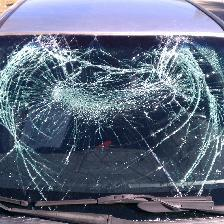broken_glass: (31, 72, 110, 135)
